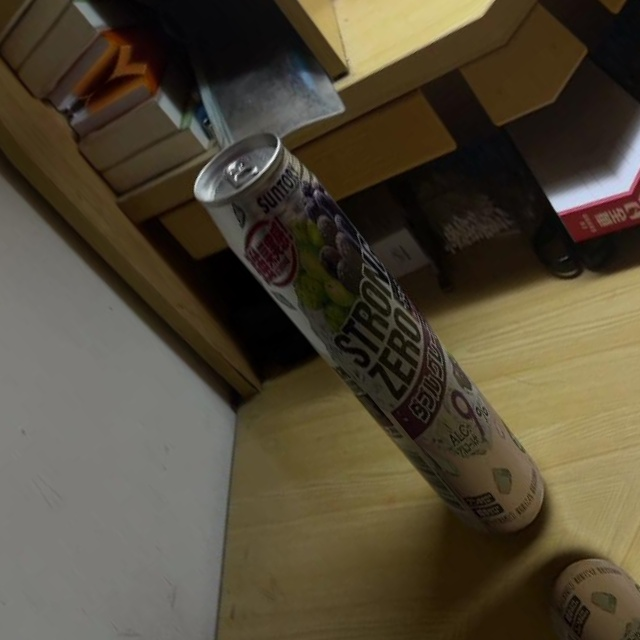Liquor: (181, 117, 574, 555)
